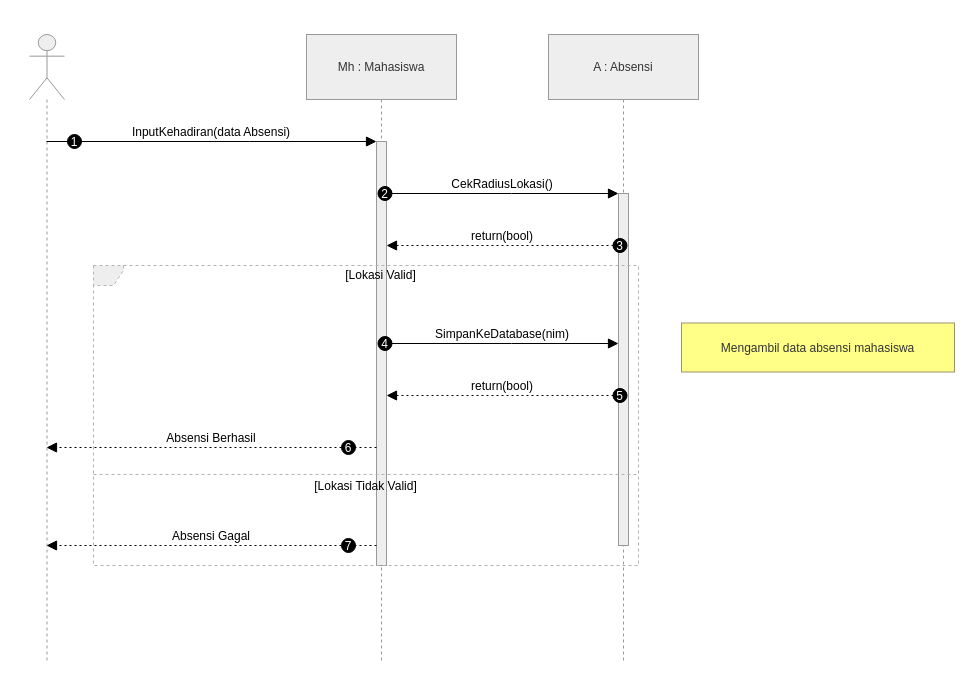
Some shapes in this 972 by 678 pixel diagram are drawn without their labels. The box of each missing label's shape, as (x1, y1, x2, y2) in pixels:
alt: (92, 264, 638, 566)
Mahasiswa: (28, 34, 64, 660)
